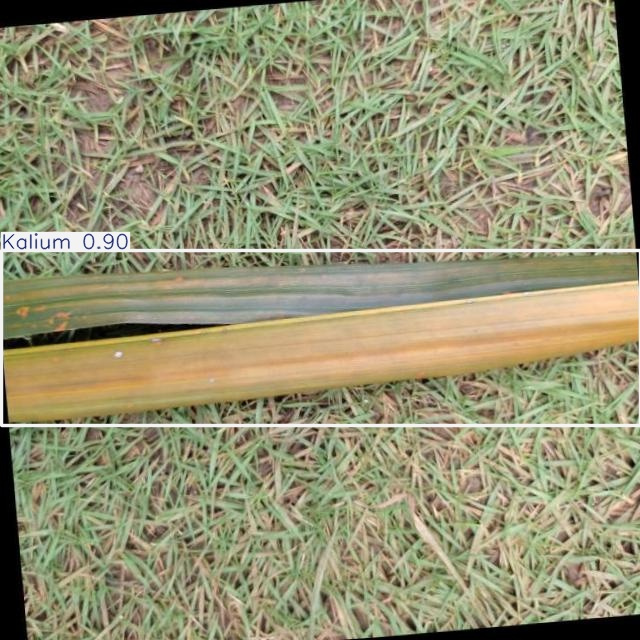Kalium: (1, 250, 640, 426)
